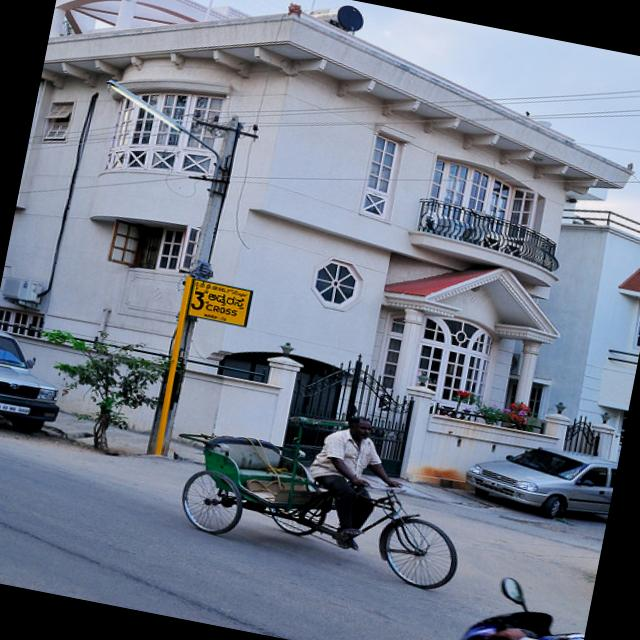Vehicle: (457, 431, 619, 525), (440, 568, 592, 640), (0, 326, 72, 440)
